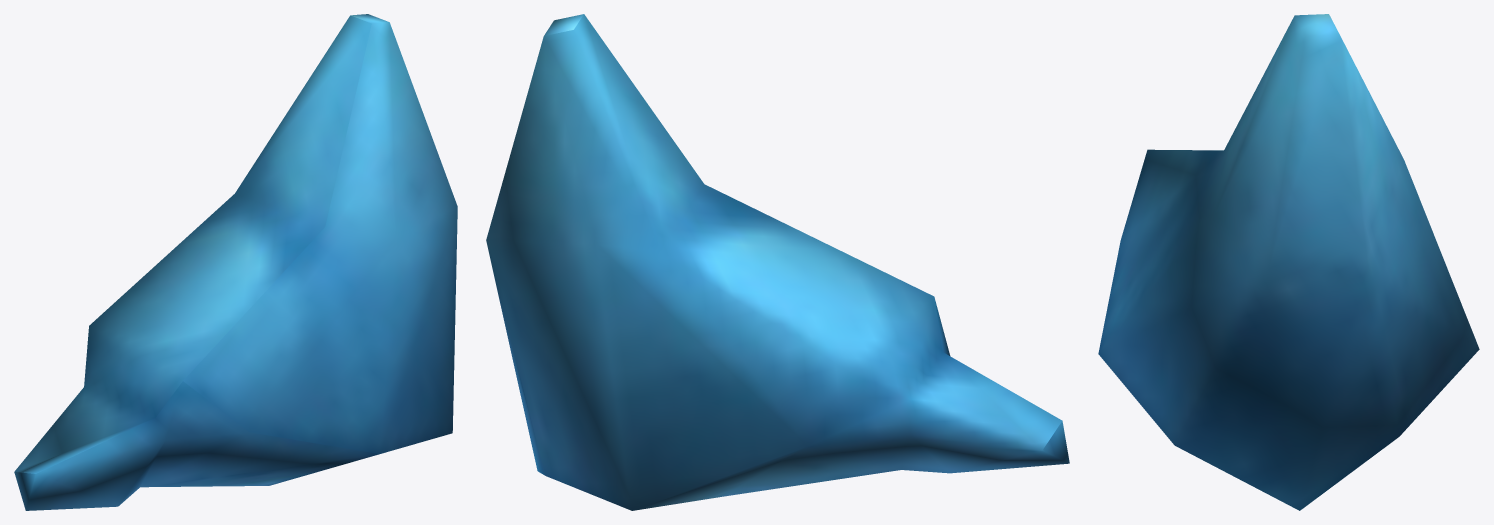
The model's file is Stage_BingYuan_BingLing10.FBX.
3 views of the same model, side by side, from view 1: azimuth 30°, elevation 25°; view 2: azimuth 150°, elevation 25°; view 3: azimuth 270°, elevation 25° (orthographic). The views are drawn at different scales.
Visible parts, largest first — view 1: Stage_BingYuan_BingLing10; view 2: Stage_BingYuan_BingLing10; view 3: Stage_BingYuan_BingLing10.
Boxes of the visible parts, x1,y1,x2,y2 form: Stage_BingYuan_BingLing10: (14, 14, 457, 510); Stage_BingYuan_BingLing10: (486, 14, 1069, 510); Stage_BingYuan_BingLing10: (1098, 14, 1479, 510).
Size of the model in its own units: 59.81 by 52.06 by 37.97.
